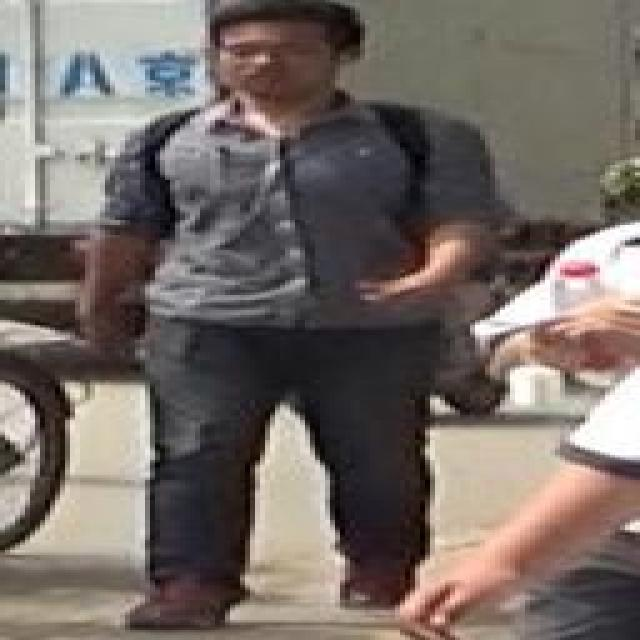adult: (64, 1, 511, 640)
